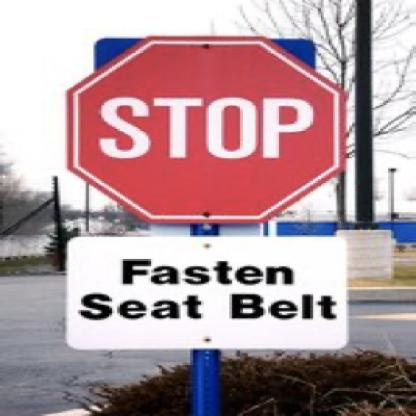Stop: (73, 35, 344, 220)
